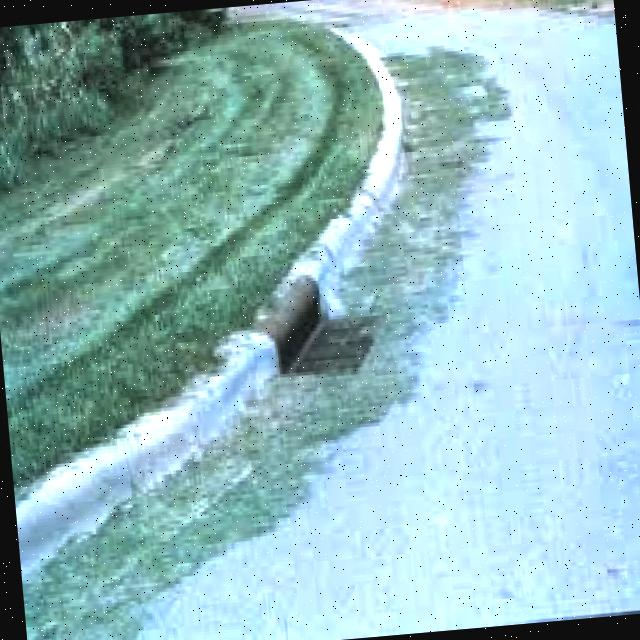curb: (10, 418, 204, 585), (167, 303, 347, 428), (328, 15, 426, 201), (290, 199, 423, 300)
